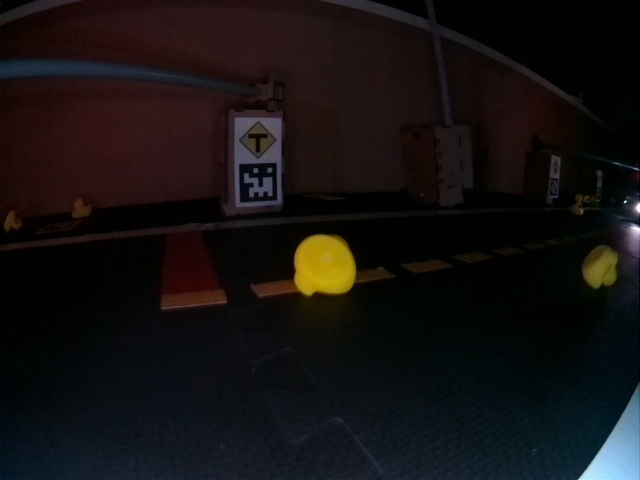Duckie: (293, 234, 356, 295), (583, 247, 618, 288), (4, 211, 22, 232), (72, 199, 91, 218), (573, 205, 583, 215)
Intersection sign: (238, 121, 277, 159)
QR code: (238, 162, 278, 204), (36, 221, 80, 232), (549, 178, 558, 196)
